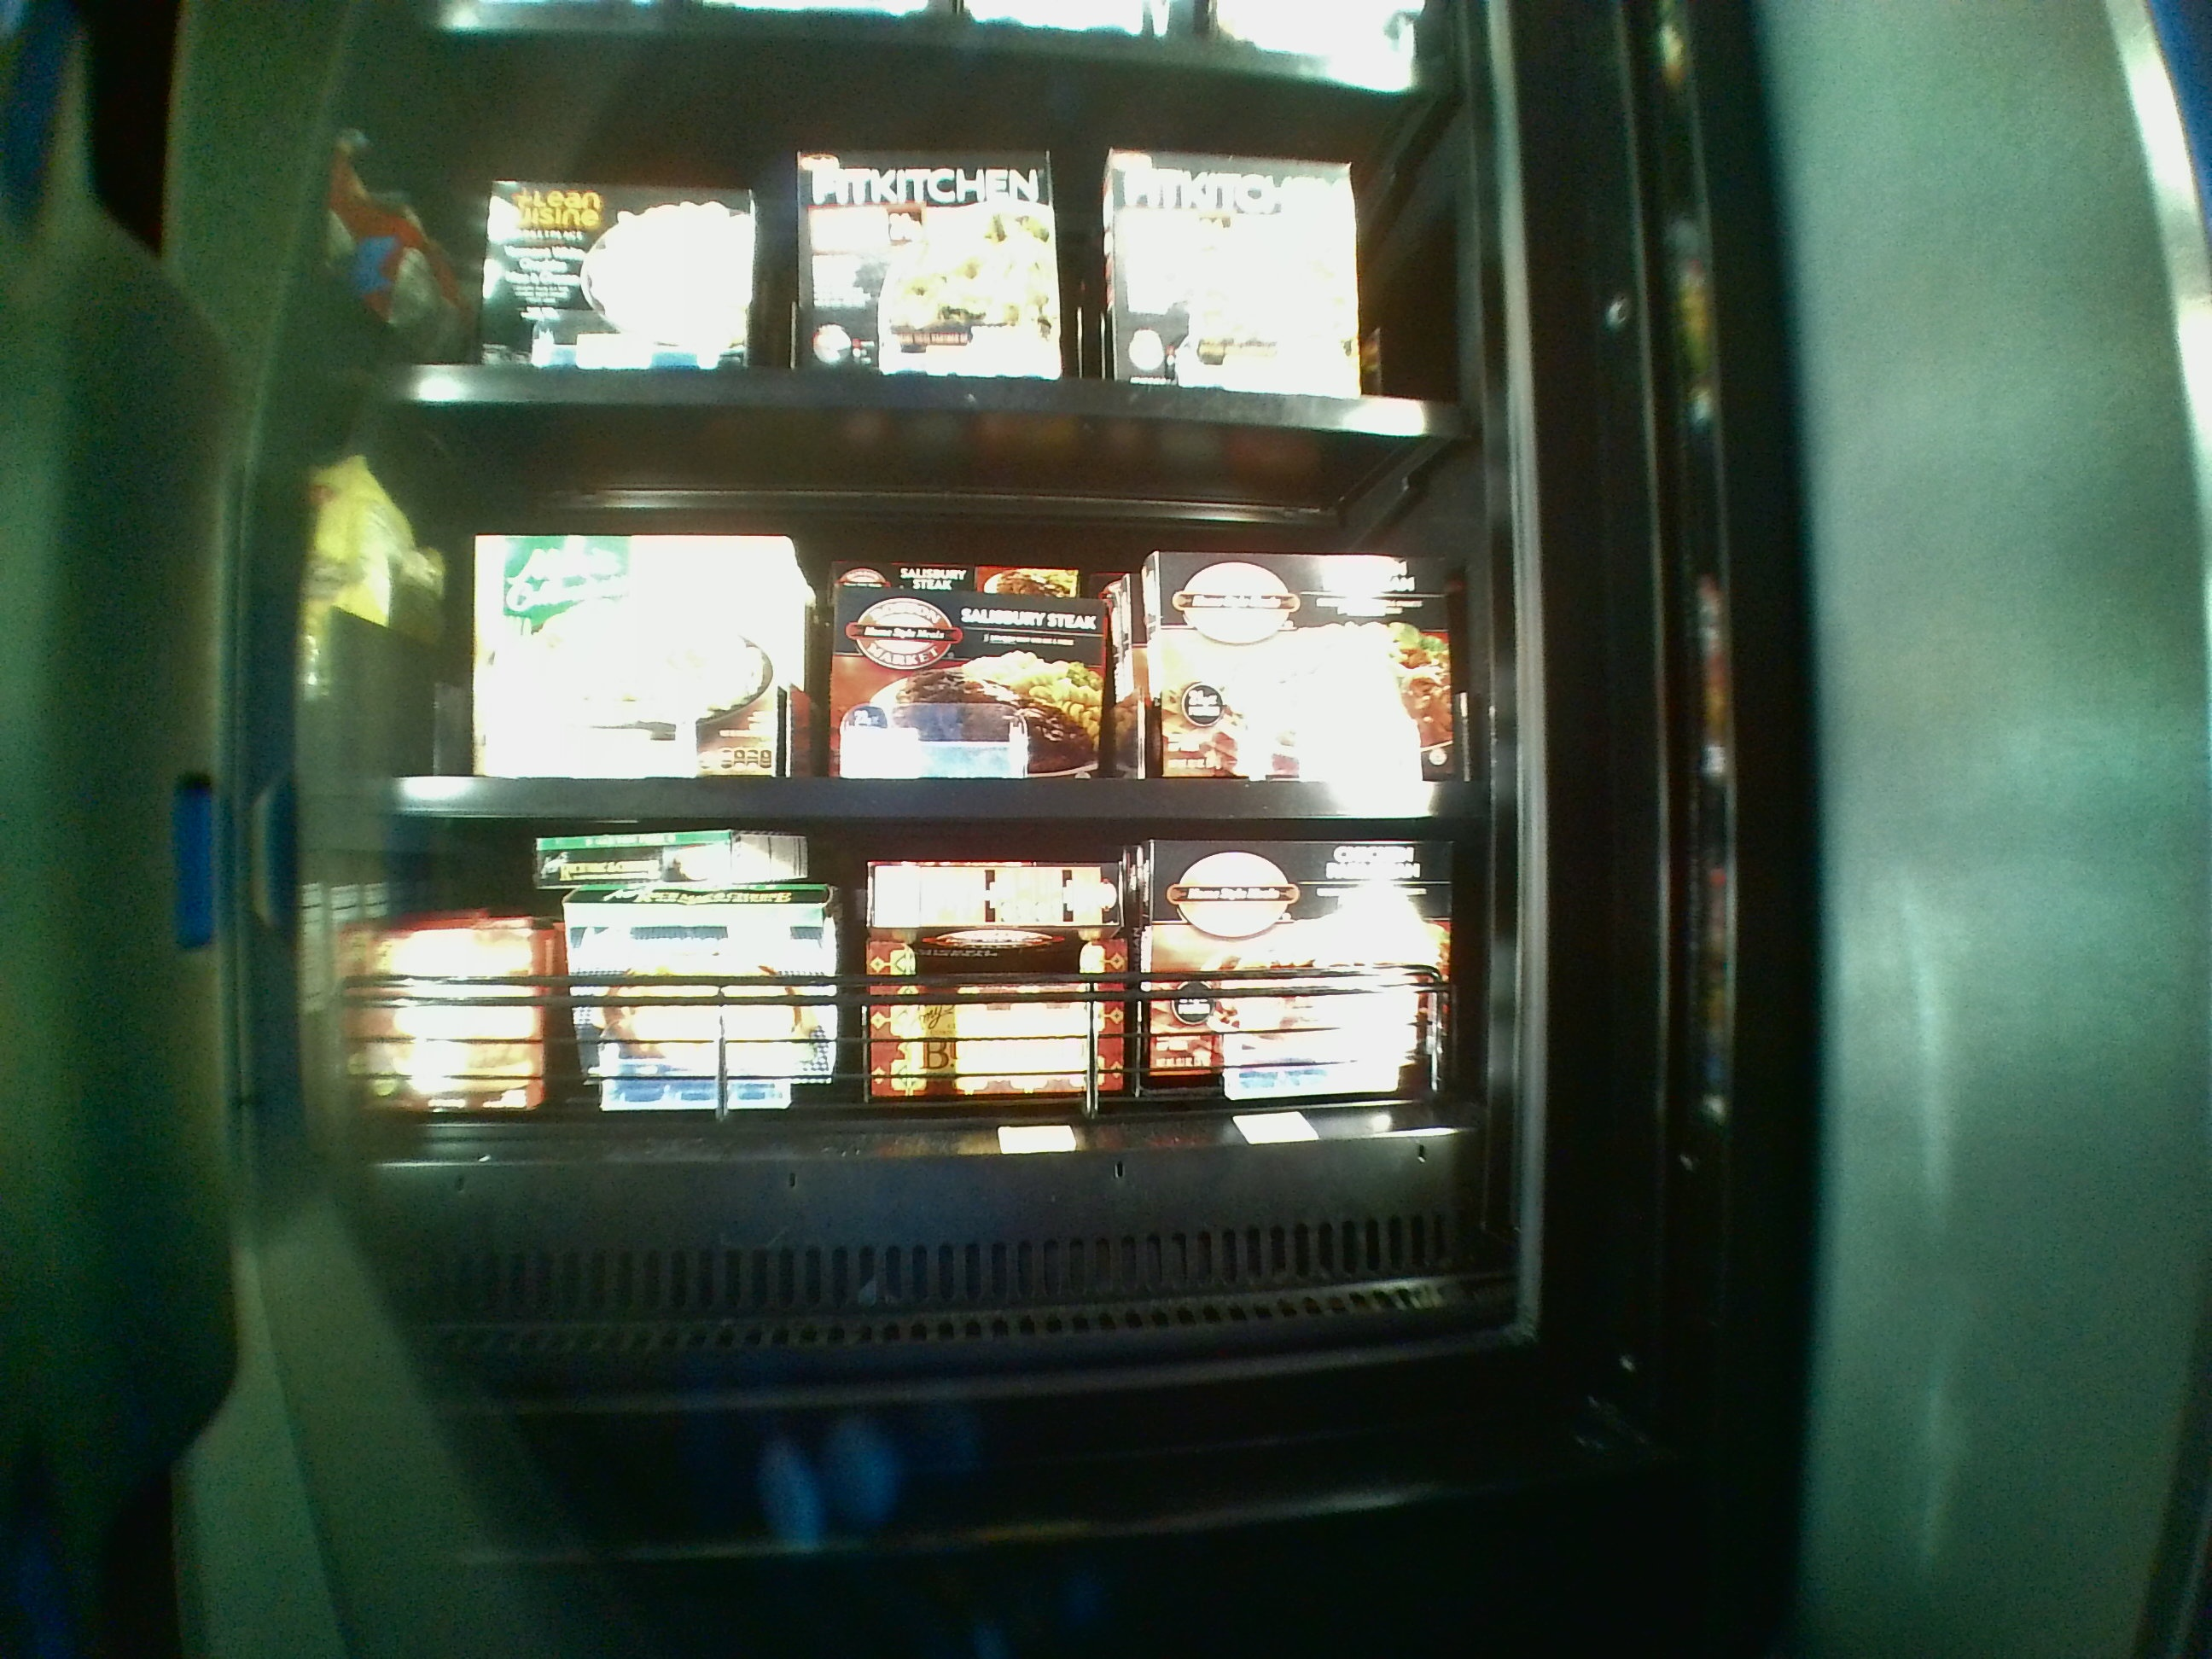shelf: (348, 410, 1484, 809), (341, 824, 1493, 1175)
